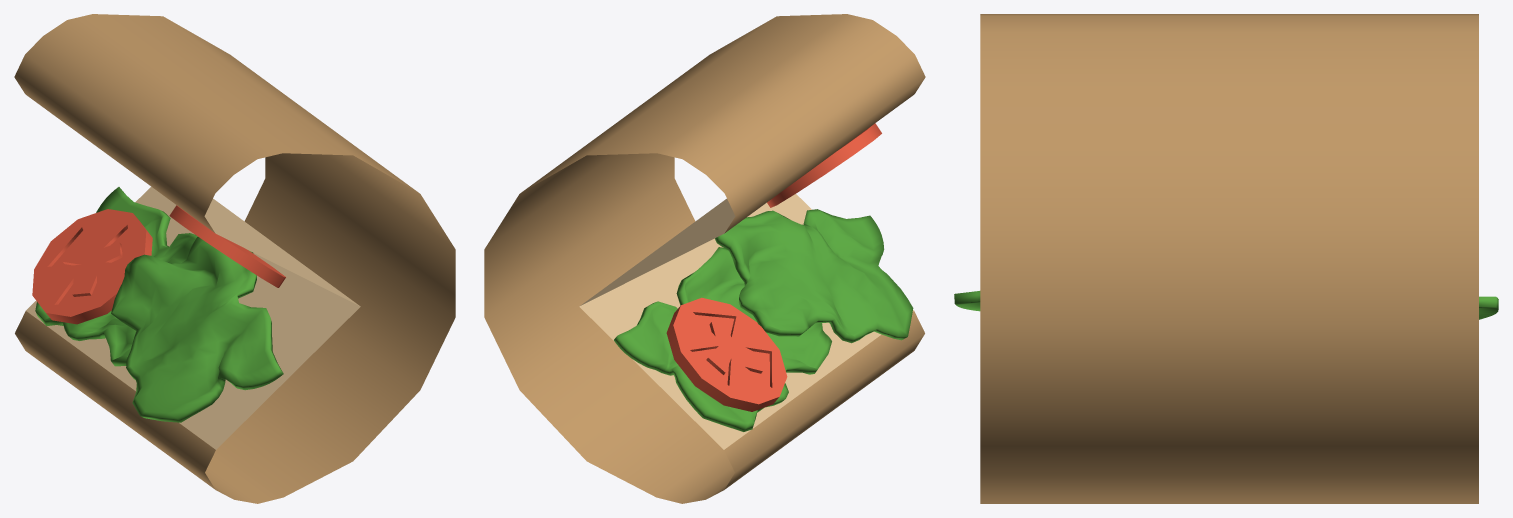
Rendered from Sandwhich 2.fbx.
3 views of the same model, side by side, from view 1: azimuth 30°, elevation 25°; view 2: azimuth 150°, elevation 25°; view 3: azimuth 270°, elevation 25° (orthographic). The views are drawn at different scales.
Visible parts, largest first — view 1: Sandwhich_002; view 2: Sandwhich_002; view 3: Sandwhich_002.
Part boxes in pixels (x1,y1,x2,y2): Sandwhich_002: [14, 14, 455, 503]; Sandwhich_002: [484, 14, 925, 503]; Sandwhich_002: [954, 14, 1498, 503].
Bounding box in the file's own units: 19.9 × 23.88 × 26.09.
